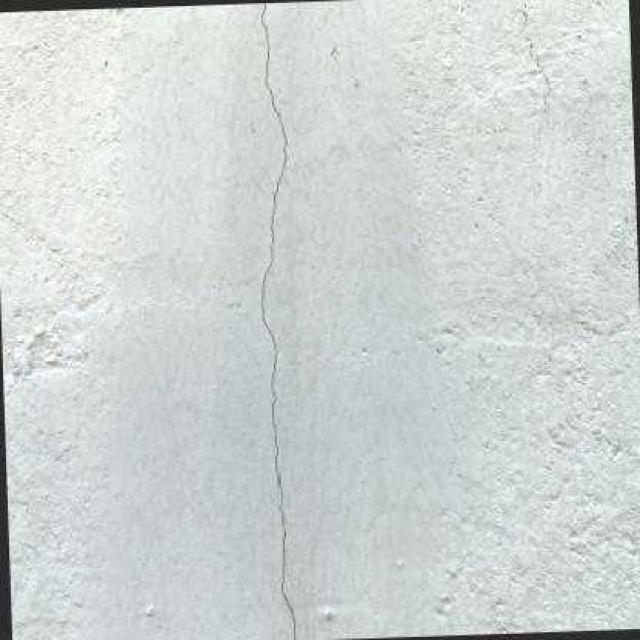D00: (258, 2, 296, 640)
